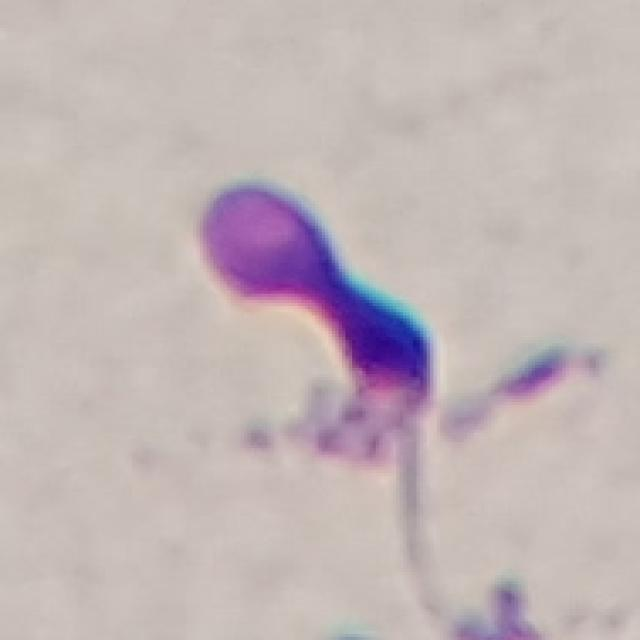abnormal sperm: (180, 163, 467, 638)
